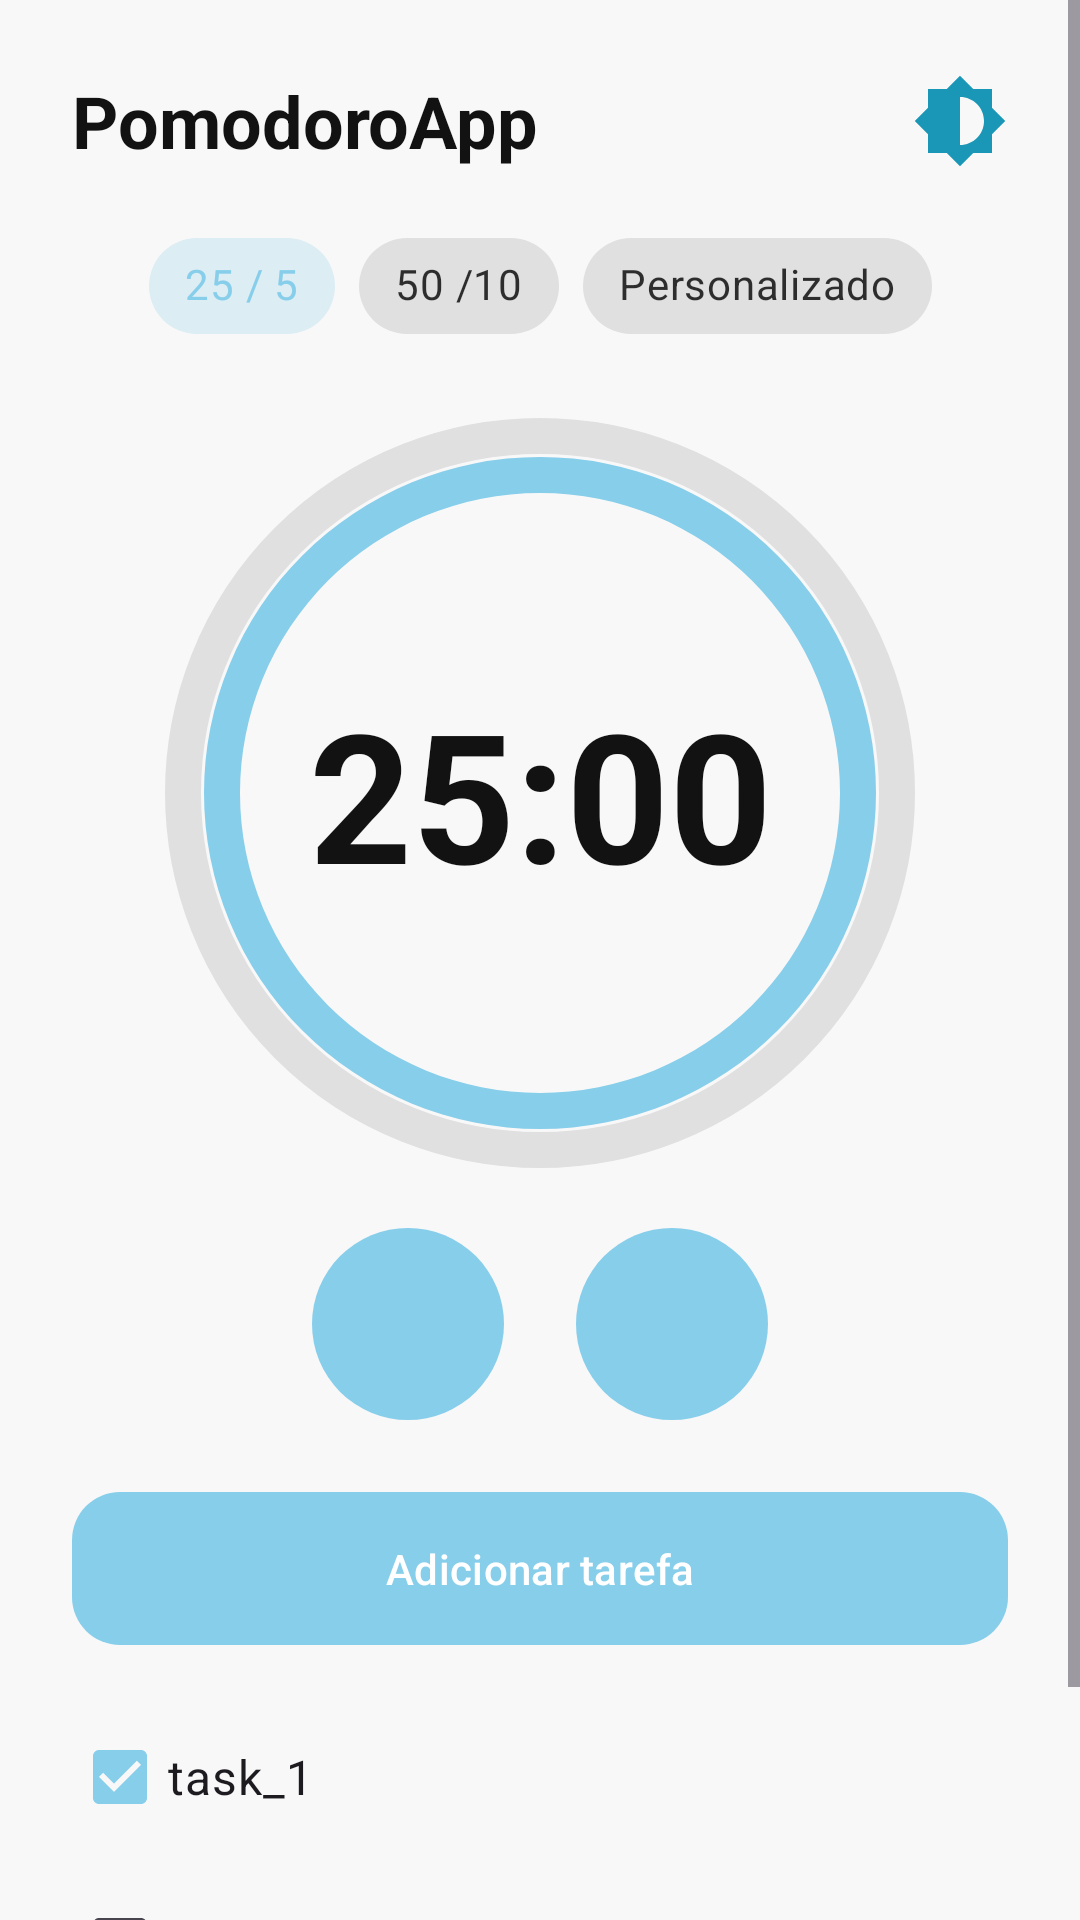

Where icons sit on this 1080×1920 app screen, as (x1, y1, x2, y2):
brightness medium: (915, 76, 1005, 166)
